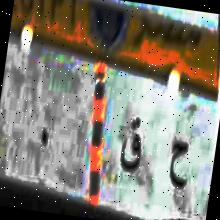0: (33, 121, 57, 160)
7aa: (163, 132, 194, 199)
qaaf: (113, 108, 148, 184)
